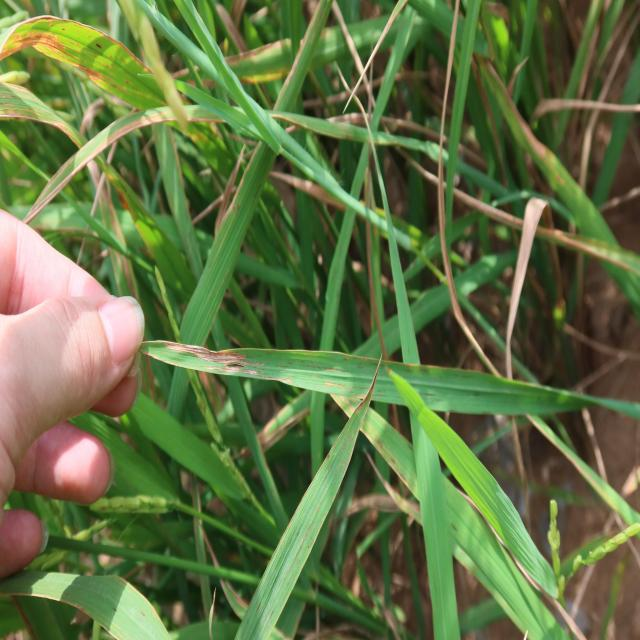Dom soc vi khuan: (138, 339, 281, 380)
